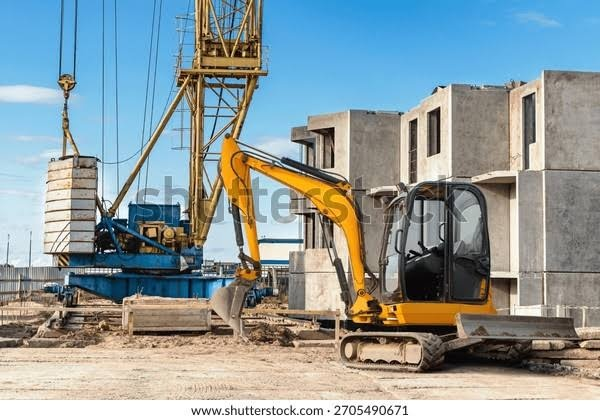excavator: (212, 139, 574, 379)
